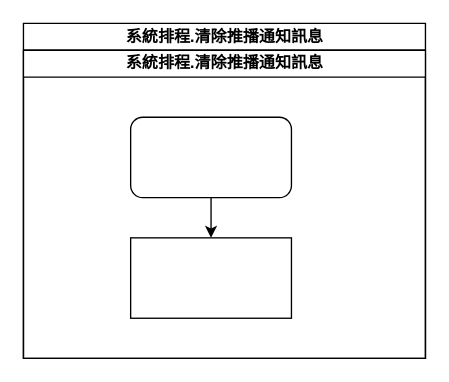
The diagram is 449 pixels wide and 382 high, and some of its shapes have lost their labels. Here are the shapes that lost their labels. From the top down, the centre of each, then its label:
At [210,157]: "排程執行".
At [210,277]: "刪除 超過指定天數的資料".
